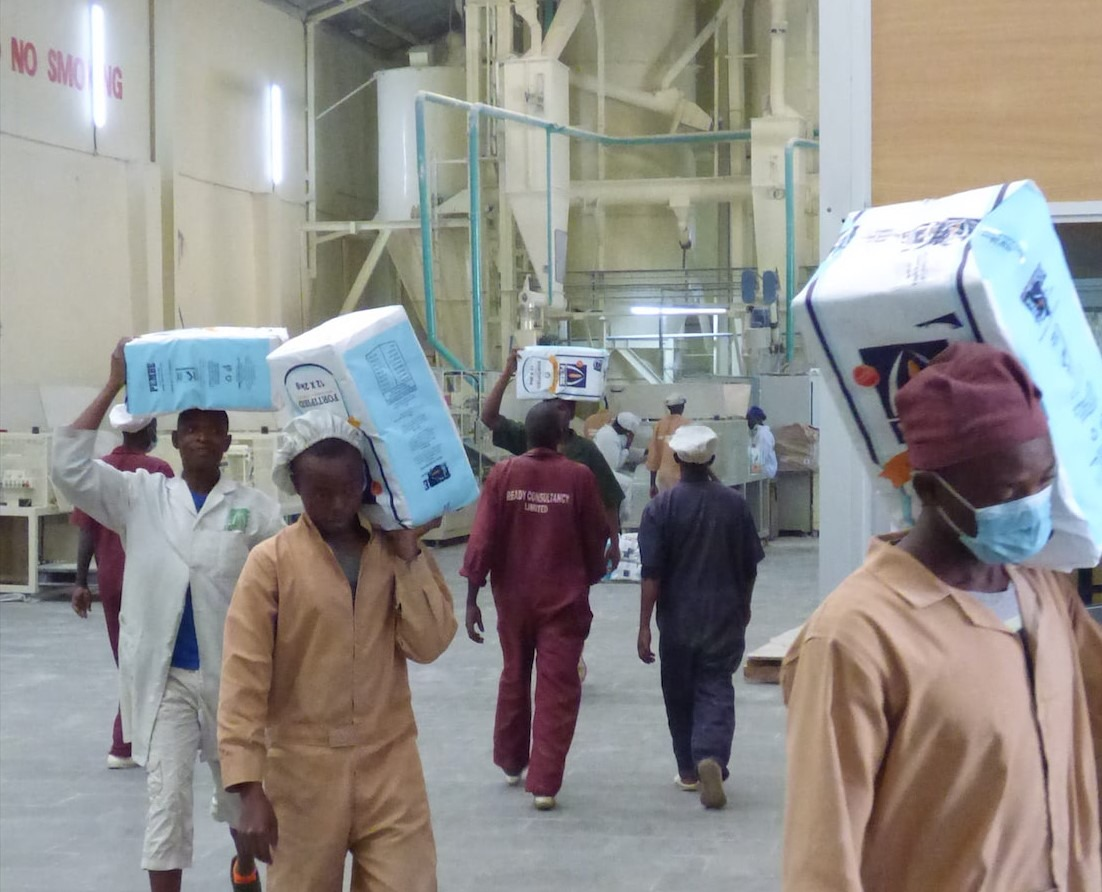wheat_flour_blue_label: (796, 178, 1102, 569), (259, 299, 467, 525), (131, 333, 286, 395), (521, 348, 600, 397)
